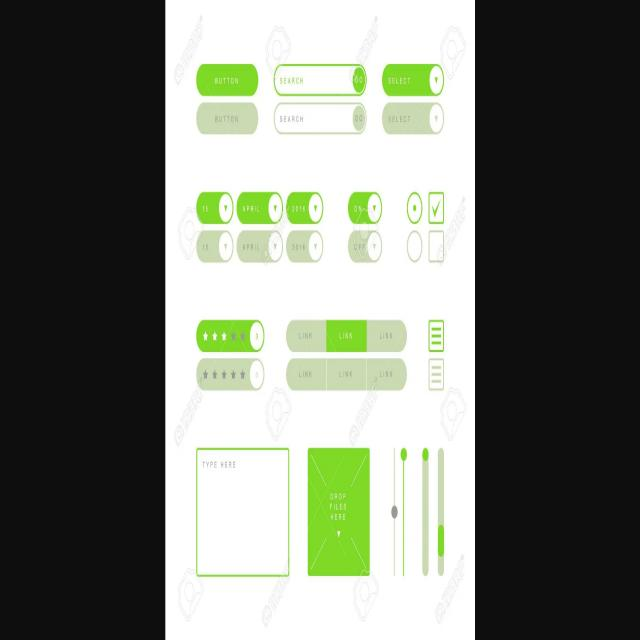checkbox: (428, 189, 445, 224)
radio: (406, 190, 423, 223)
toggle: (235, 187, 283, 225), (236, 226, 283, 264), (285, 227, 325, 265), (285, 188, 324, 226), (195, 188, 235, 225), (196, 229, 235, 266), (345, 187, 384, 224), (346, 229, 385, 266)
